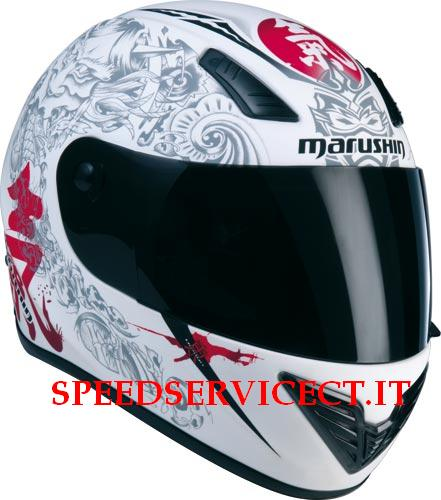helmet: (13, 23, 414, 455)
